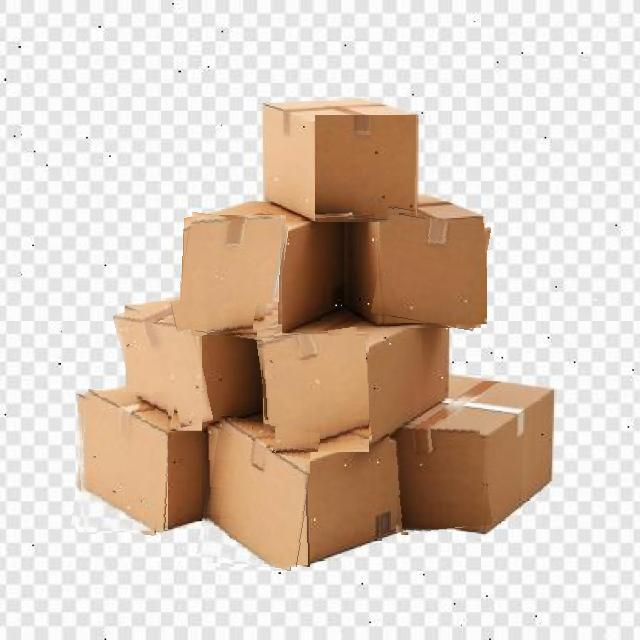BoxFace: (202, 419, 310, 567), (76, 392, 170, 534), (260, 330, 369, 452), (180, 215, 286, 339), (375, 214, 487, 328), (118, 302, 207, 433), (391, 417, 489, 532), (315, 116, 417, 222)
